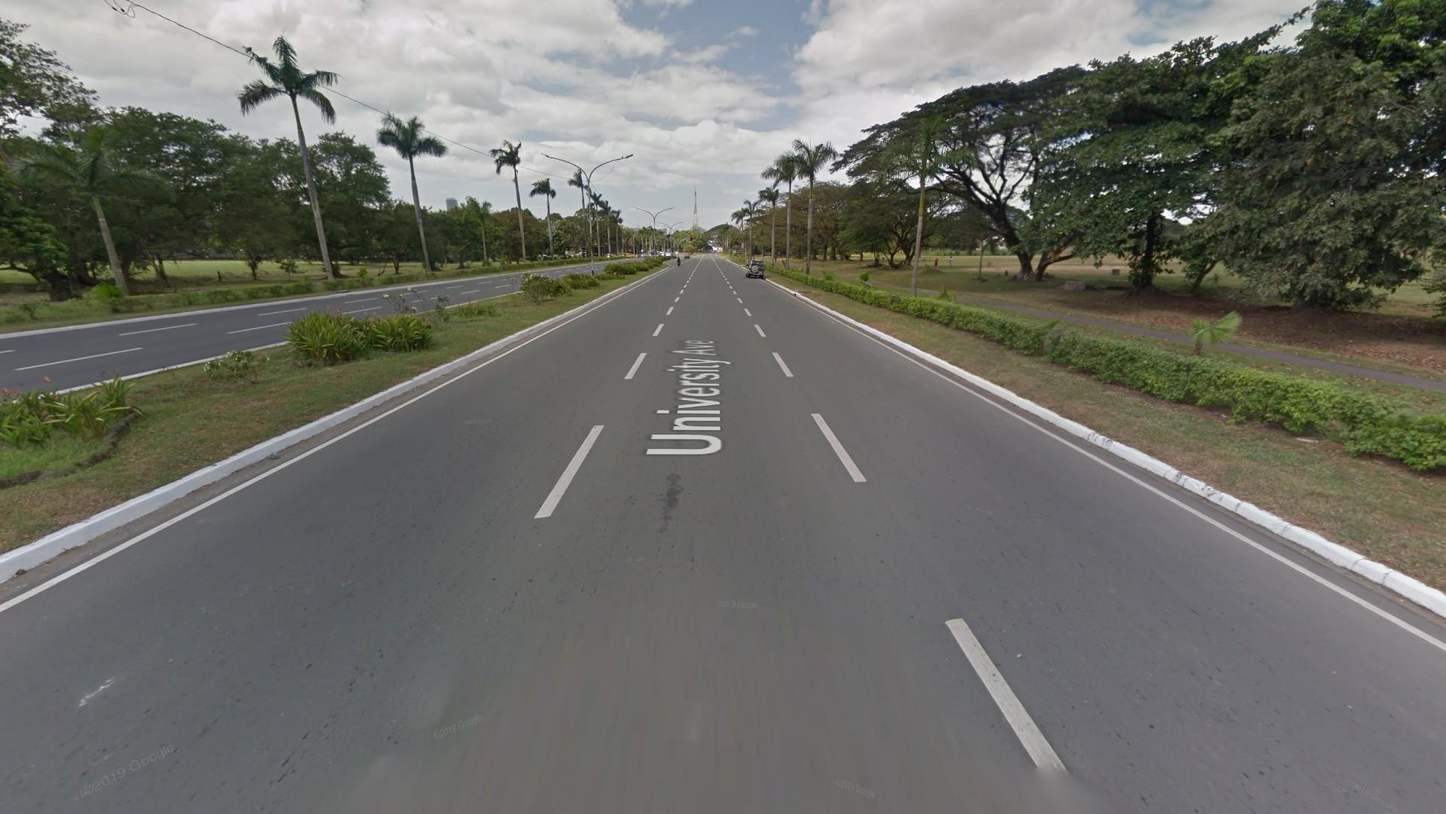pedestrian: (933, 257, 939, 269), (949, 256, 954, 267)
